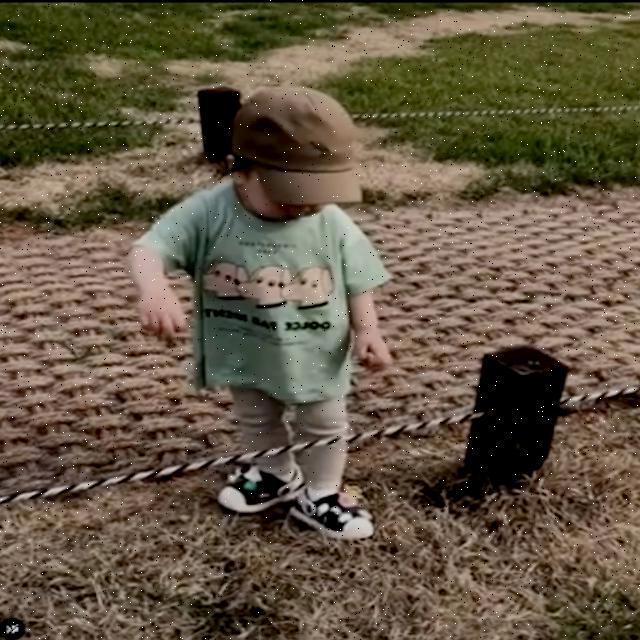child: (118, 87, 393, 542)
